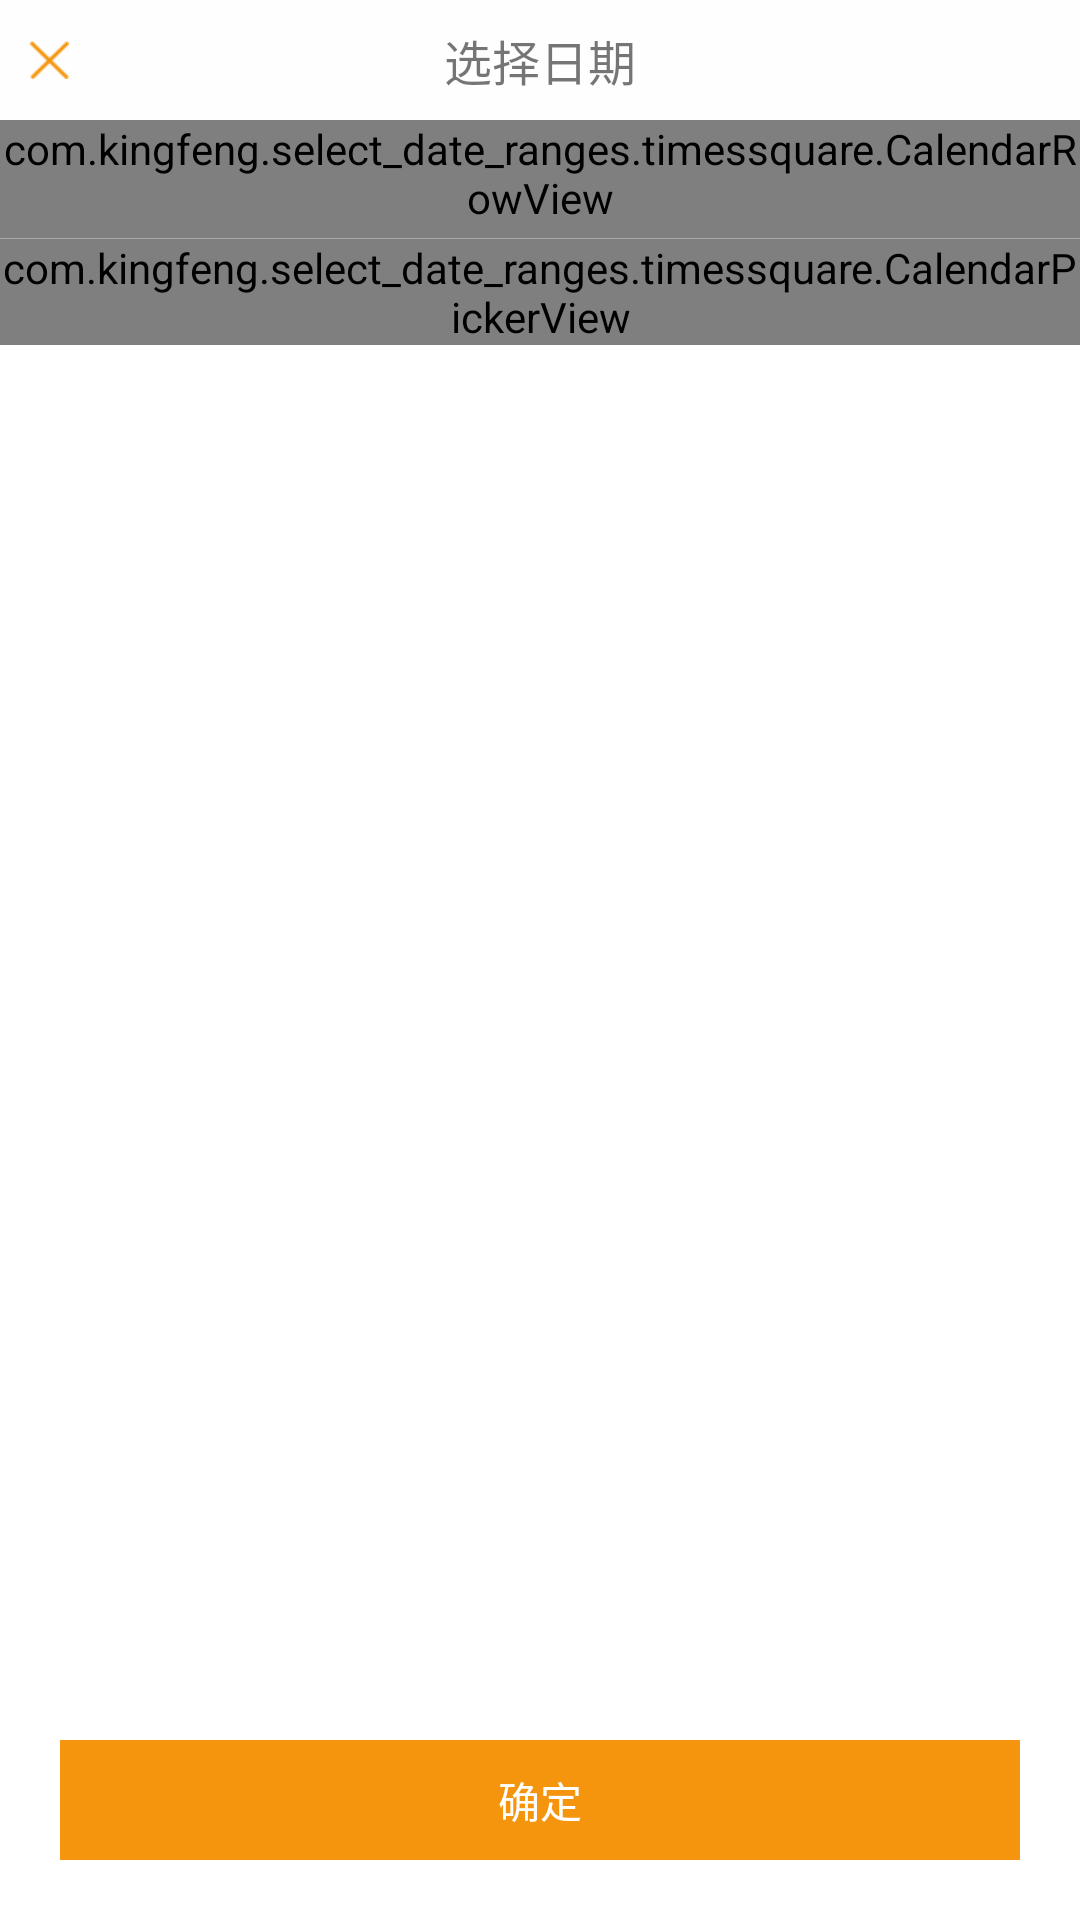

Screen size 1080 × 1920. Icon name, then its center in pixels as (x=x, y=y):
quit: (x=49, y=60)
